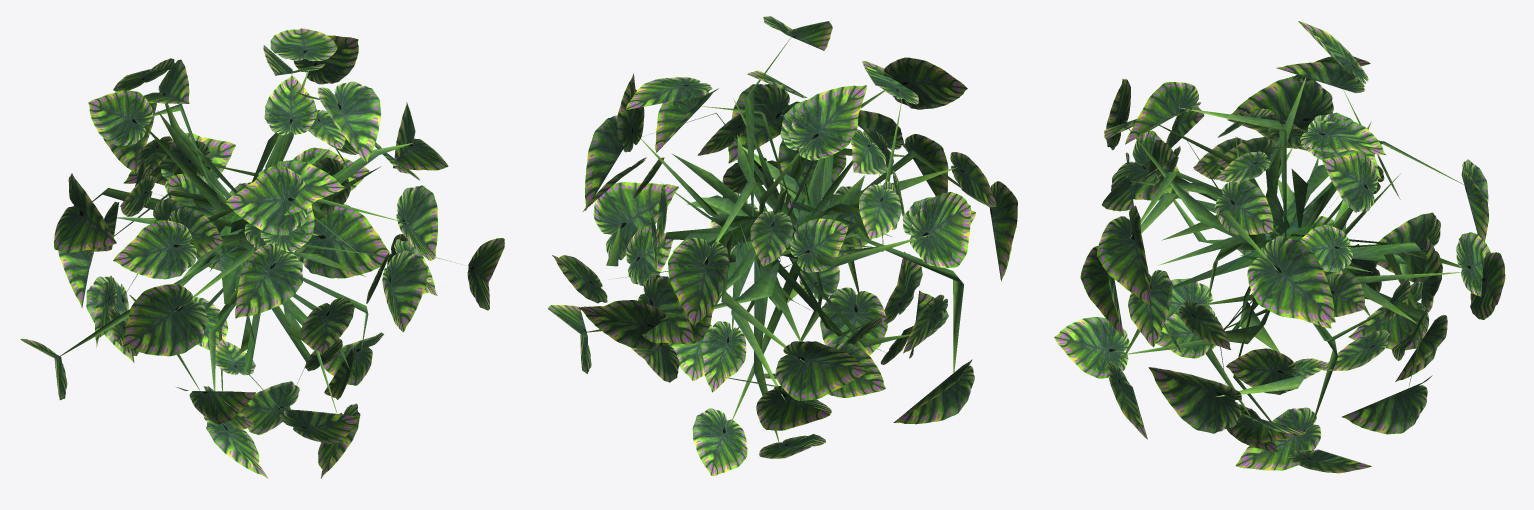
File: StemmedBroadleafAir1.fbx
3 renders of one model, left to right at view 1: azimuth 30°, elevation 25°; view 2: azimuth 150°, elevation 25°; view 3: azimuth 270°, elevation 25°, orthographic.
Parts seen in each view (by area): view 1: Cube; view 2: Cube; view 3: Cube.
Part boxes in pixels (bbox=[...]): Cube: bbox=[20, 28, 504, 478]; Cube: bbox=[547, 16, 1017, 475]; Cube: bbox=[1054, 21, 1505, 473].
Bounding box in the file's own units: 1070 × 1047 × 1010.
